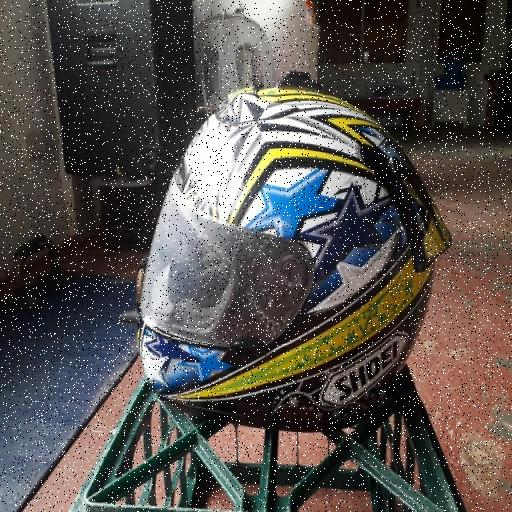Helmet: (134, 69, 443, 459)
